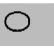no answer: (3, 11, 31, 32)
